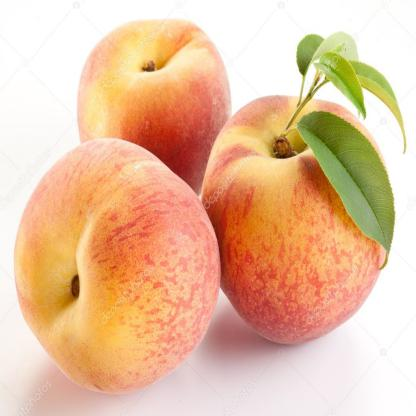peach leaf: (298, 118, 398, 262), (314, 52, 365, 118)
